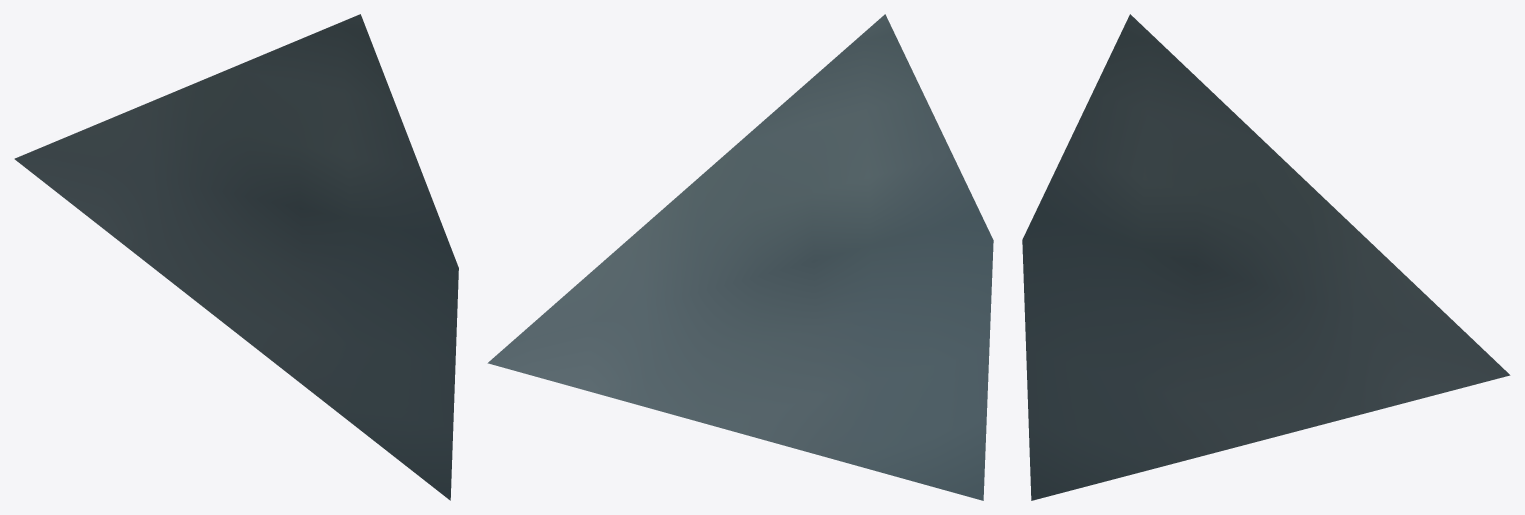
File: tile3-transformed.glb
3 renders of one model, left to right at view 1: azimuth 90°, elevation 25°; view 2: azimuth 150°, elevation 25°; view 3: azimuth 270°, elevation 25°, orthographic. The views are drawn at different scales.
Visible parts, largest first — view 1: Tile_1.003; view 2: Tile_1.003; view 3: Tile_1.003.
Boxes of the visible parts, bbox=[...] form: Tile_1.003: bbox=[14, 14, 458, 500]; Tile_1.003: bbox=[487, 14, 993, 500]; Tile_1.003: bbox=[1022, 14, 1510, 500].
Bounding box in the file's own units: 0.6626 × 1.24 × 1.07.
Materials: 1 (1 with a texture image).
